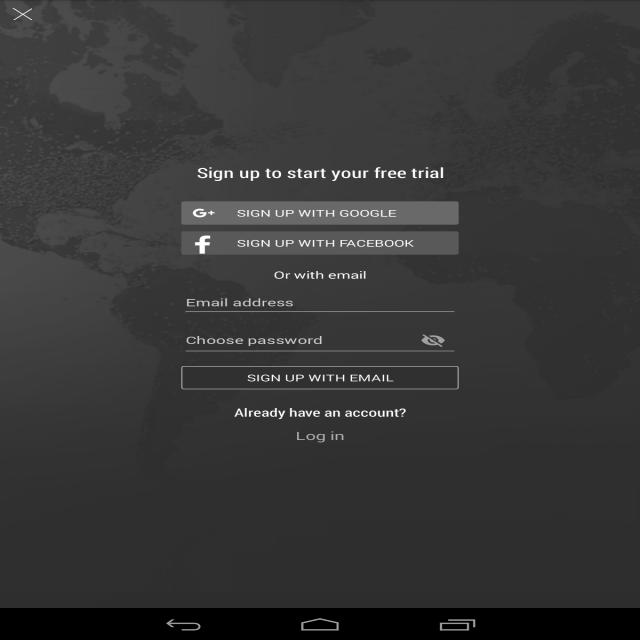Button: (181, 201, 459, 225), (181, 231, 459, 255), (27, 557, 308, 580), (332, 557, 613, 580), (181, 366, 459, 389)
EditText: (181, 324, 459, 356), (181, 289, 459, 317)
ImageButton: (408, 324, 458, 356)
ImageView: (0, 0, 640, 608), (585, 510, 610, 526), (13, 8, 32, 20), (293, 596, 304, 603), (336, 596, 347, 603), (315, 596, 325, 603)
TextView: (382, 43, 621, 80), (200, 50, 380, 80), (20, 50, 198, 80), (196, 165, 444, 181), (234, 5, 406, 25), (332, 541, 613, 550), (234, 406, 406, 419), (274, 268, 366, 282), (426, 524, 491, 542), (122, 528, 175, 546), (296, 429, 344, 443), (175, 534, 212, 544), (491, 530, 518, 540)
